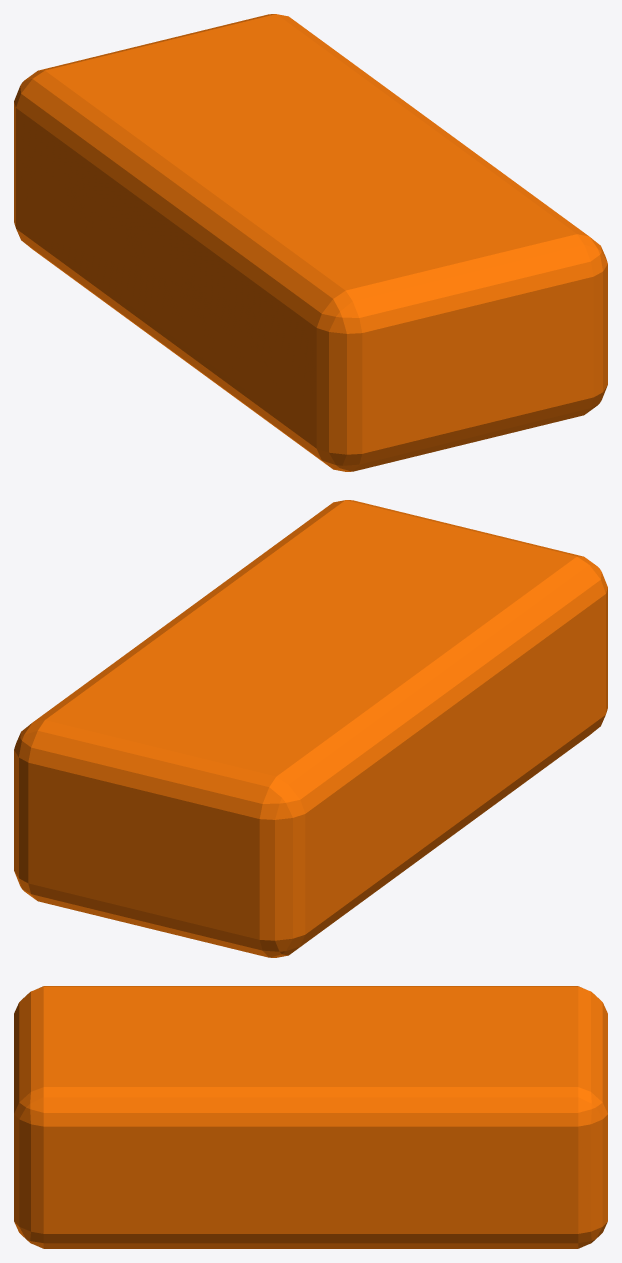
File: ShortBlockYellow.fbx
3 renders of one model, top to bottom at view 1: azimuth 30°, elevation 25°; view 2: azimuth 150°, elevation 25°; view 3: azimuth 270°, elevation 25°, orthographic. The views are drawn at different scales.
Visible parts, largest first — view 1: ShortBlock; view 2: ShortBlock; view 3: ShortBlock.
Part boxes in pixels (left/top/right/bottom): ShortBlock: left=14, top=14, right=607, bottom=471; ShortBlock: left=14, top=500, right=607, bottom=957; ShortBlock: left=14, top=986, right=607, bottom=1248.
Bounding box in the file's own units: 2 × 1.2 × 4.
